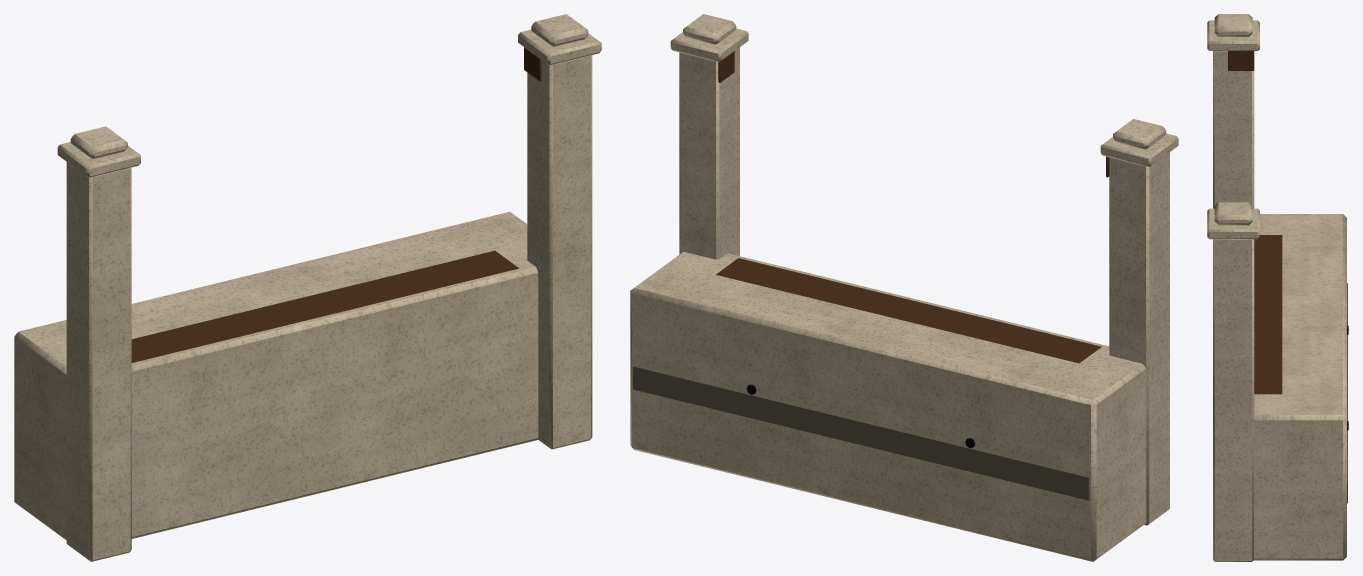
The model's file is bridge-abutment-garden.lod1.glb.
The picture shows the model from 3 angles, left to right: view 1: azimuth 30°, elevation 25°; view 2: azimuth 150°, elevation 25°; view 3: azimuth 270°, elevation 25°; orthographic projection. The views are drawn at different scales.
Visible parts, largest first — view 1: bridge_abutment_garden_Stone • warm limestone, bridge_abutment_garden_Trim • places palette; view 2: bridge_abutment_garden_Stone • warm limestone, bridge_abutment_garden_Trim • places palette; view 3: bridge_abutment_garden_Stone • warm limestone, bridge_abutment_garden_Trim • places palette.
Boxes of the visible parts, <box> form: bridge_abutment_garden_Stone • warm limestone: <box>14,14,601,561</box>; bridge_abutment_garden_Trim • places palette: <box>131,47,541,362</box>; bridge_abutment_garden_Stone • warm limestone: <box>630,14,1178,561</box>; bridge_abutment_garden_Trim • places palette: <box>633,51,1109,500</box>; bridge_abutment_garden_Stone • warm limestone: <box>1207,14,1346,561</box>; bridge_abutment_garden_Trim • places palette: <box>1228,51,1348,503</box>.
Bounding box in the file's own units: 2.64 × 2.02 × 0.75.
2 materials, 2 textured.
